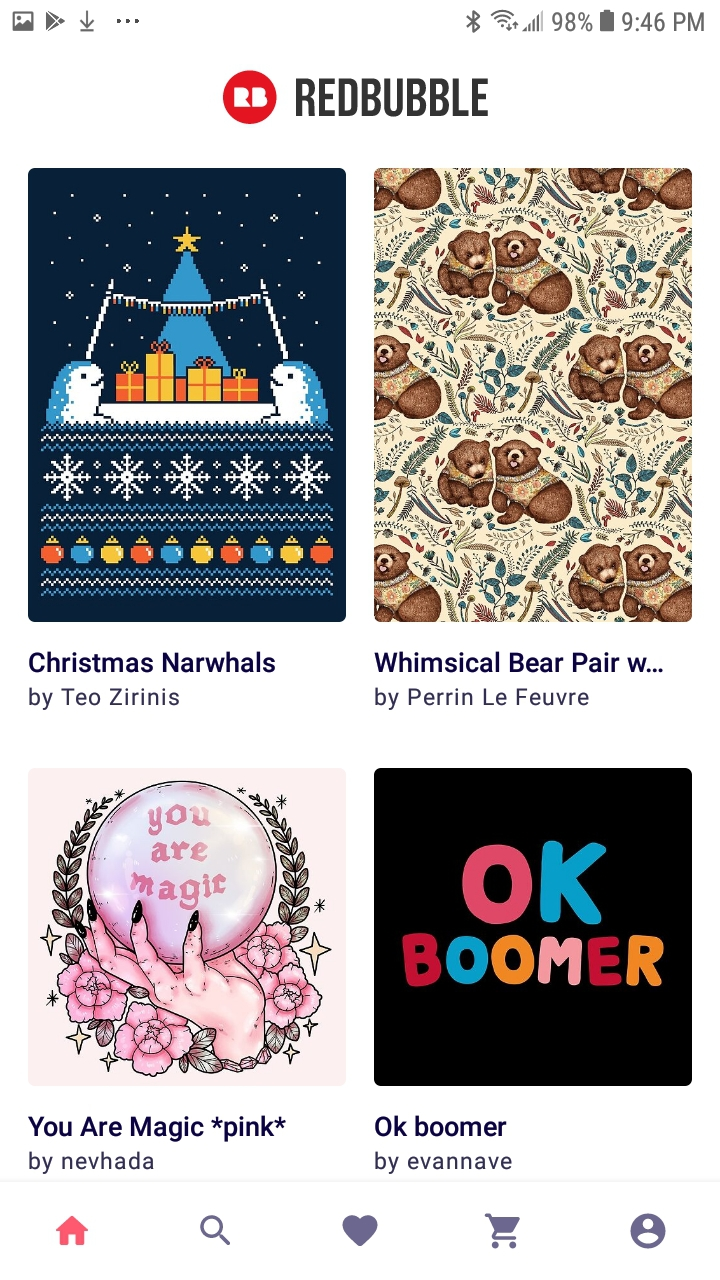Icon: (629, 1212, 666, 1249), (484, 1213, 520, 1249), (343, 1215, 379, 1247), (57, 1215, 90, 1246), (200, 1215, 231, 1246)
Image: (28, 168, 347, 623), (374, 168, 692, 623), (374, 768, 693, 1087), (28, 768, 347, 1086), (223, 71, 278, 126)
Text: (374, 651, 663, 712), (28, 1115, 286, 1175), (28, 650, 276, 711), (375, 1114, 512, 1175), (296, 77, 489, 117)
UpperTaskBar: (1, 1, 720, 34)
